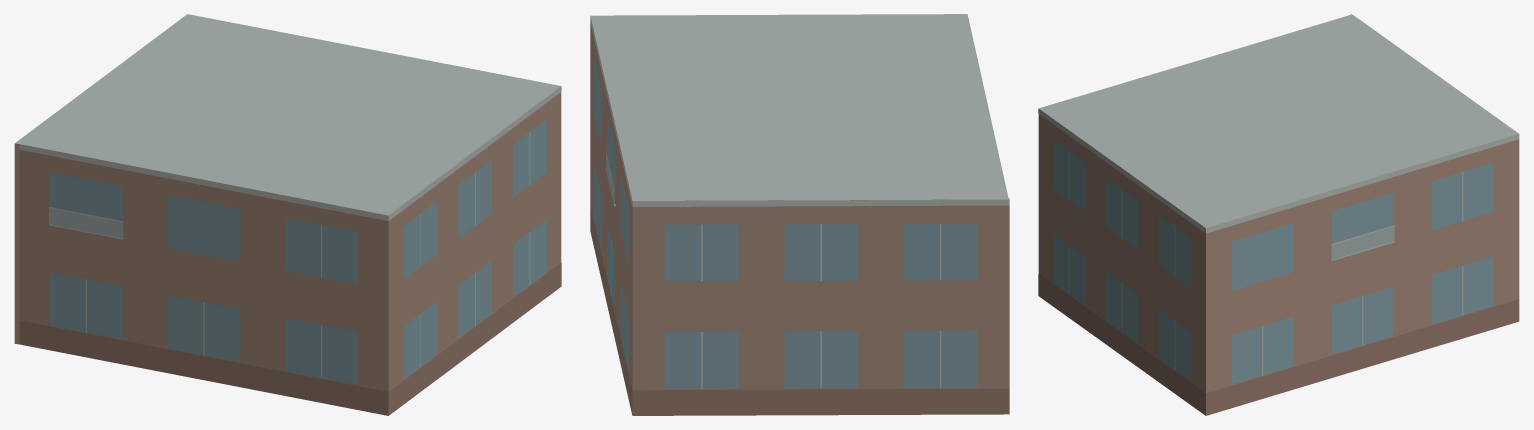
Rendered from survey-upis-33020930.glb.
The picture shows the model from 3 angles, left to right: view 1: azimuth 30°, elevation 25°; view 2: azimuth 150°, elevation 25°; view 3: azimuth 270°, elevation 25°; orthographic projection. The views are drawn at different scales.
Parts seen in each view (by area): view 1: survey-upis-33020930.tmp; view 2: survey-upis-33020930.tmp; view 3: survey-upis-33020930.tmp.
Boxes of the visible parts, bbox=[...] form: survey-upis-33020930.tmp: bbox=[14, 14, 561, 415]; survey-upis-33020930.tmp: bbox=[590, 14, 1009, 415]; survey-upis-33020930.tmp: bbox=[1038, 14, 1519, 415].
Size of the model in its own units: 21.2 by 8.65 by 20.1.
